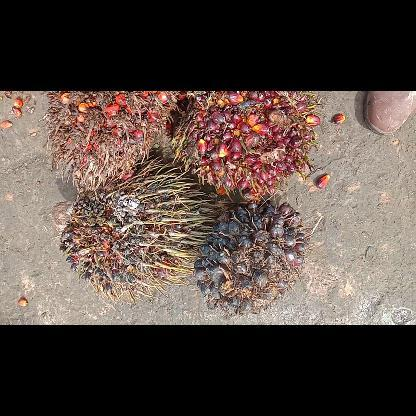TBS abnormal: (51, 152, 213, 300)
TBS masak: (176, 91, 318, 199)
TBS mentah: (196, 200, 308, 312)
Terlalu masak: (47, 90, 183, 186)
